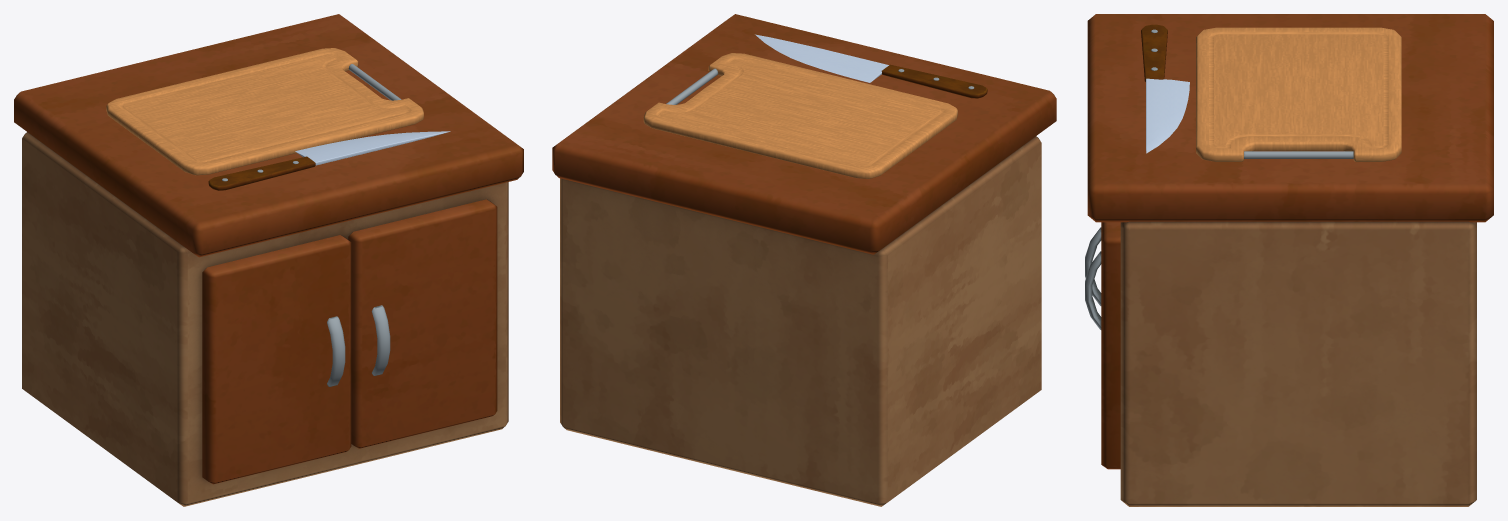
The model's file is CuttingCounter_Visual.glb.
The picture shows the model from 3 angles, left to right: view 1: azimuth 30°, elevation 25°; view 2: azimuth 150°, elevation 25°; view 3: azimuth 270°, elevation 25°; orthographic projection. The views are drawn at different scales.
Visible parts, largest first — view 1: KitchenCounter, Chopping_Board, Knife; view 2: KitchenCounter, Chopping_Board, Knife; view 3: KitchenCounter, Chopping_Board, Knife.
Boxes of the visible parts, box(x1,y1,x2,y2) form: KitchenCounter: box(14, 14, 523, 506); Chopping_Board: box(106, 48, 423, 175); Knife: box(208, 131, 450, 190); KitchenCounter: box(552, 14, 1056, 506); Chopping_Board: box(643, 53, 957, 178); Knife: box(755, 34, 987, 98); KitchenCounter: box(1085, 14, 1493, 506); Chopping_Board: box(1196, 27, 1401, 161); Knife: box(1141, 24, 1189, 153).
Size of the model in its own units: 1.48 by 1.31 by 1.45.
Materials: 3 (3 with a texture image).
